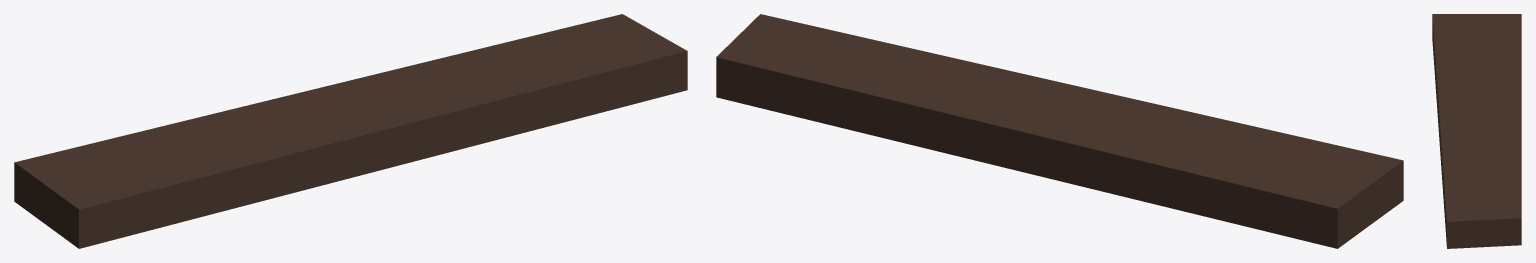
Rendered from Plank_1.fbx.
3 views of the same model, side by side, from view 1: azimuth 30°, elevation 25°; view 2: azimuth 150°, elevation 25°; view 3: azimuth 270°, elevation 25° (orthographic). The views are drawn at different scales.
Parts seen in each view (by area): view 1: Plank_1; view 2: Plank_1; view 3: Plank_1.
Part boxes in pixels (bbox=[...]): Plank_1: bbox=[14, 14, 687, 248]; Plank_1: bbox=[716, 14, 1403, 248]; Plank_1: bbox=[1432, 14, 1521, 248].
Size of the model in its own units: 206 by 12.48 by 37.22.
